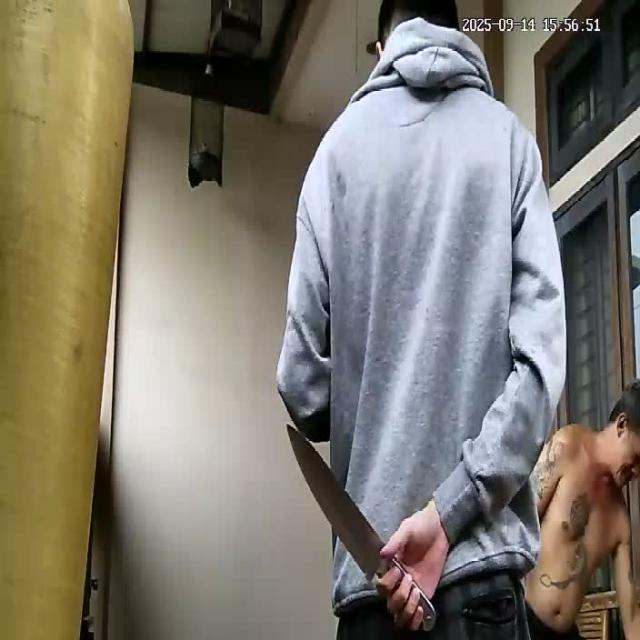senjata_tajam: (284, 421, 386, 584)
